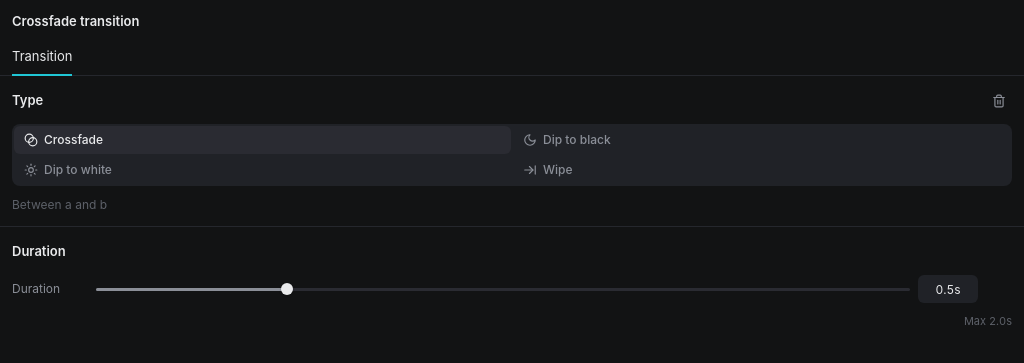
Scenario: Properties Transition tab › commits one updateTransition per type change and duration entry
Step 1. Click the radio button labelled "Dip to white" → (78, 170), box x1=14 y1=156 x2=511 y2=184
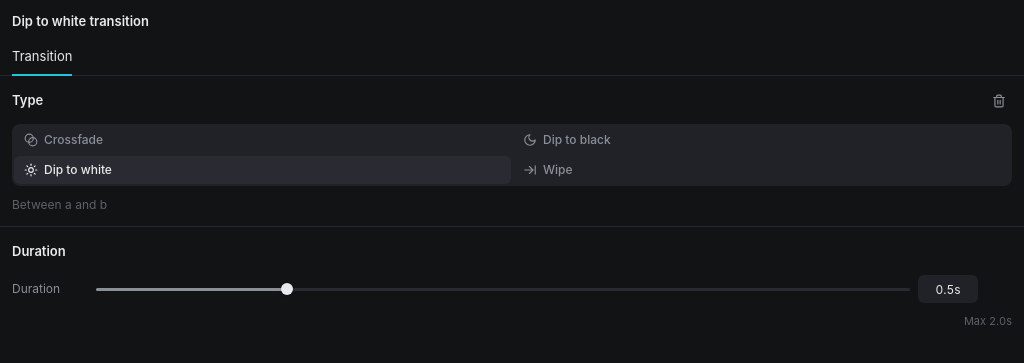
expect the heading "Dip to white transition" is shown: met, box x1=12 y1=12 x2=149 y2=32
Step 2. Replace the text in the field labelled "Duration" with "1" → (948, 289), box x1=918 y1=275 x2=978 y2=303
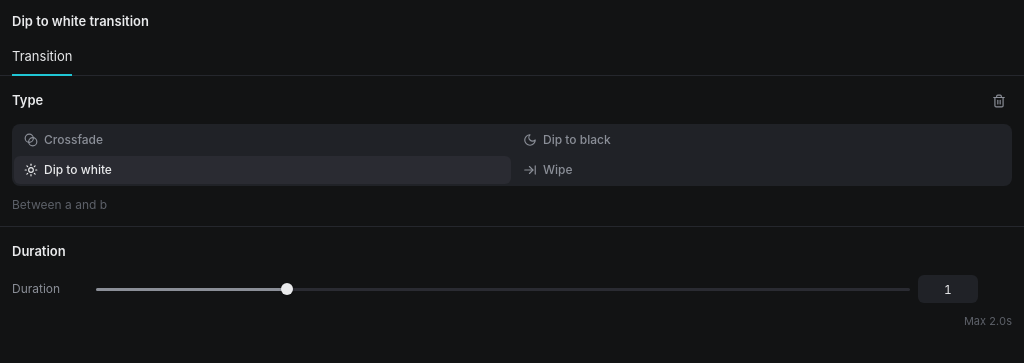
Step 3. Press Enter in the field labelled "Duration", box x1=918 y1=275 x2=978 y2=303
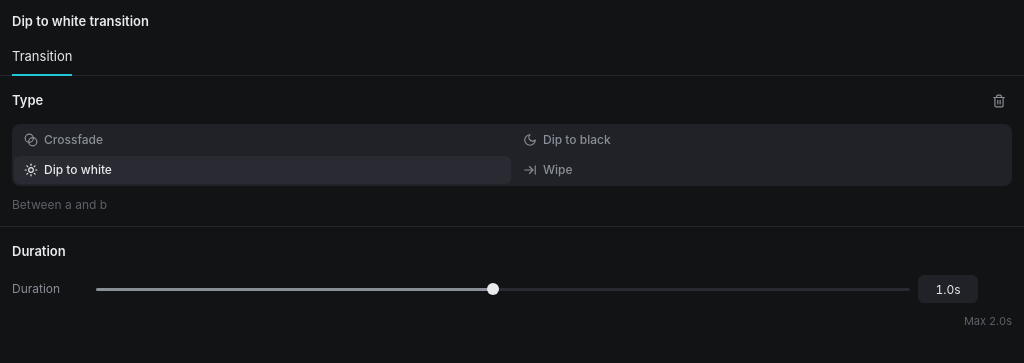
Step 4. Replace the text in the field labelled "Duration" with "3" → (948, 289), box x1=918 y1=275 x2=978 y2=303
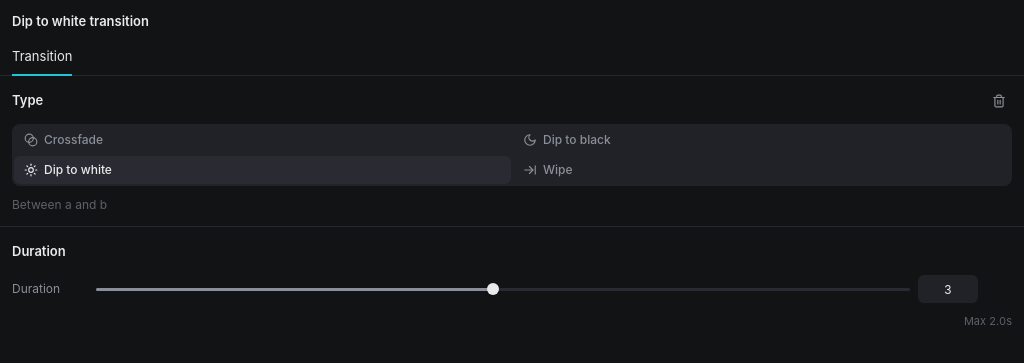
Step 5. Press Enter in the field labelled "Duration", box x1=918 y1=275 x2=978 y2=303
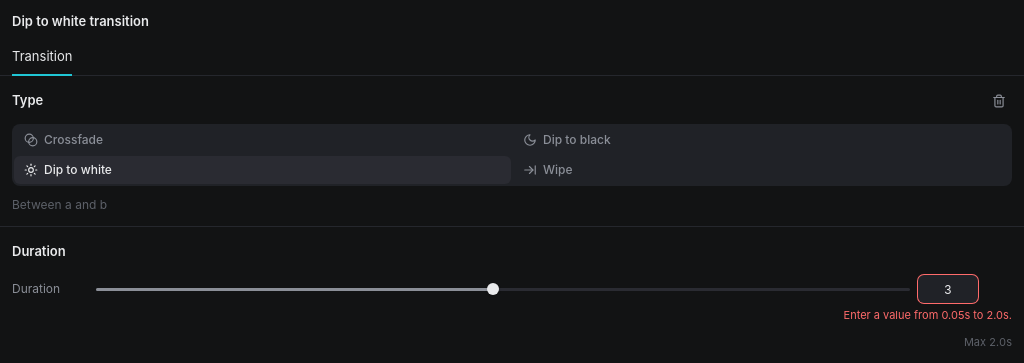
expect the text "Enter a value from 0.05s to 2.0s." is shown: met, box x1=844 y1=308 x2=1012 y2=322
